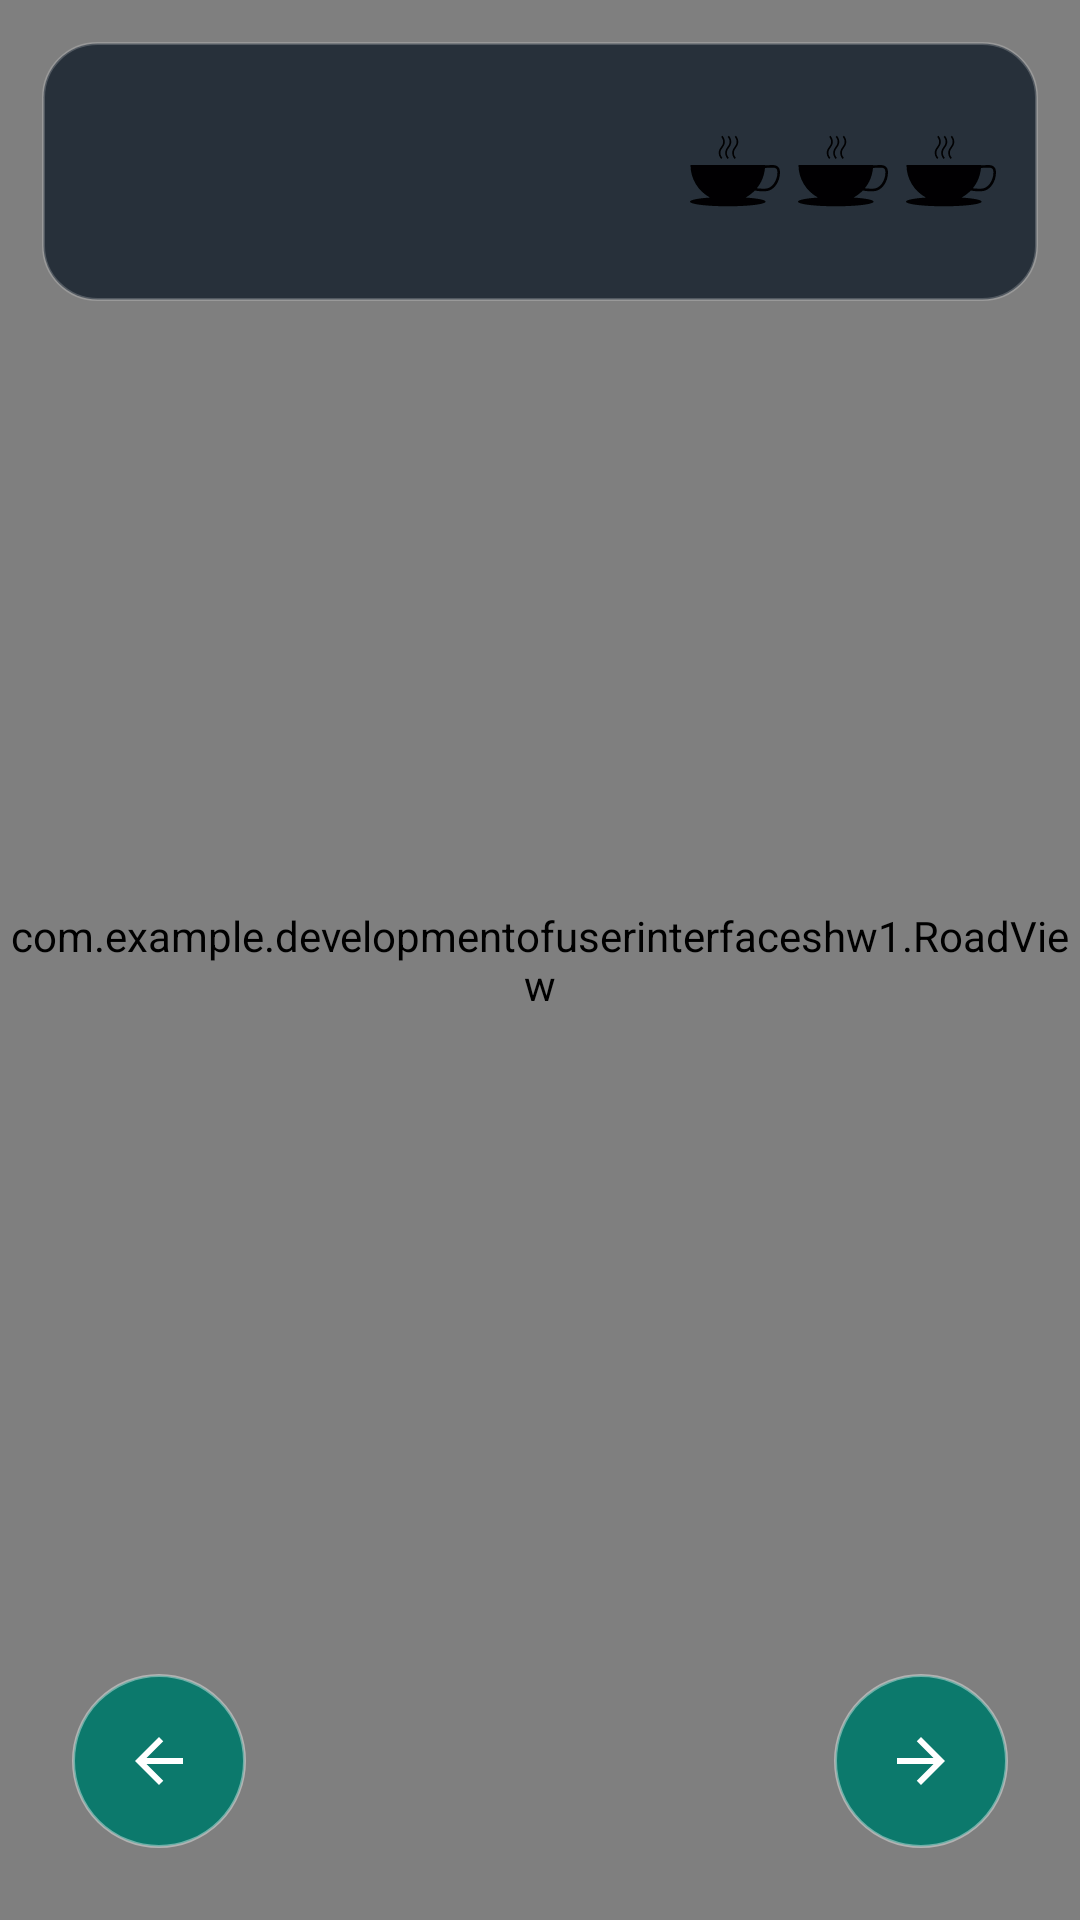

Locate icon controls on the screen. Image size 1080 x 1920, boxes as (x1, y1, x2, y2).
Move left: (72, 1674, 246, 1848)
Move right: (834, 1674, 1008, 1848)
